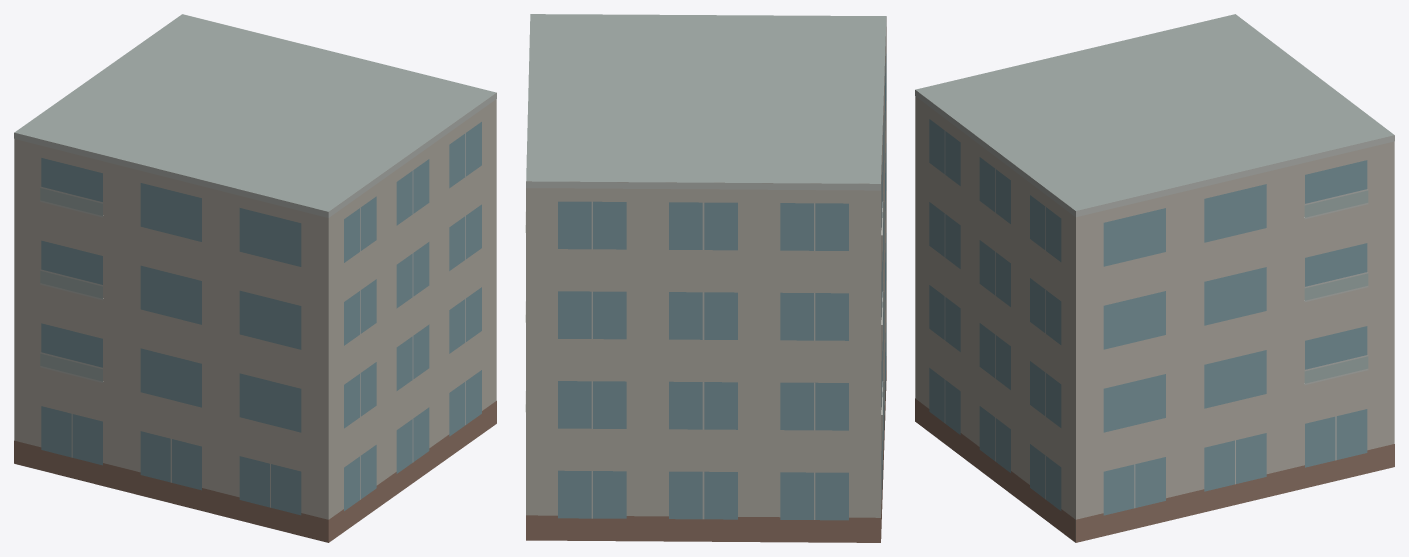
The model's file is survey-upis-32967004.glb.
3 views of the same model, side by side, from view 1: azimuth 30°, elevation 25°; view 2: azimuth 150°, elevation 25°; view 3: azimuth 270°, elevation 25° (orthographic). The views are drawn at different scales.
Visible parts, largest first — view 1: survey-upis-32967004.tmp; view 2: survey-upis-32967004.tmp; view 3: survey-upis-32967004.tmp.
Boxes of the visible parts, left/top/right/bottom form: survey-upis-32967004.tmp: left=14, top=14, right=496, bottom=542; survey-upis-32967004.tmp: left=525, top=14, right=886, bottom=542; survey-upis-32967004.tmp: left=915, top=14, right=1394, bottom=542.
Size of the model in its own units: 16.57 by 13 by 17.04.
